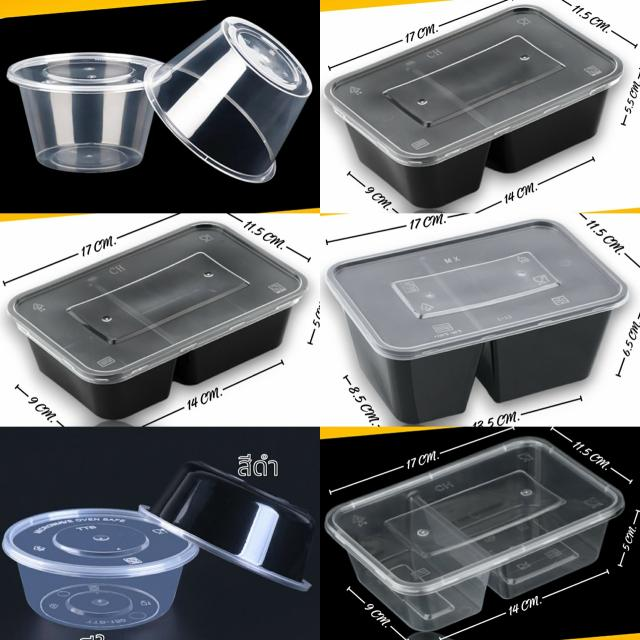plastik: (327, 221, 628, 424), (325, 6, 623, 208), (325, 436, 624, 631), (9, 224, 306, 419), (144, 16, 311, 182), (3, 509, 199, 630), (139, 461, 315, 591), (8, 52, 155, 172)
